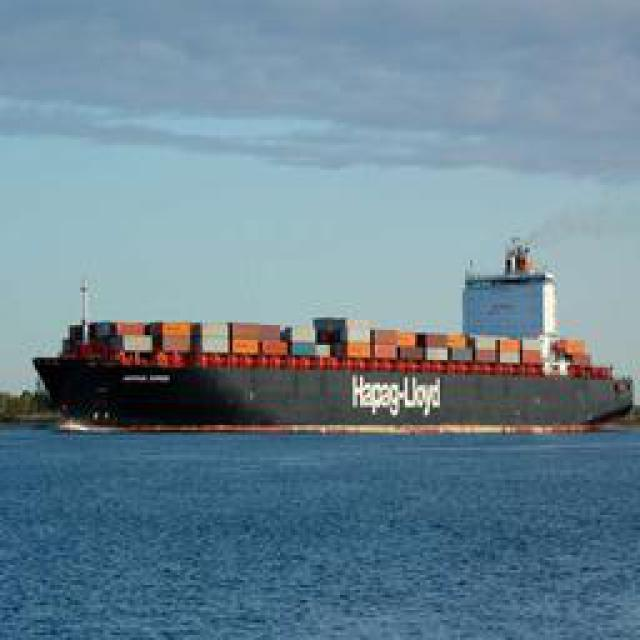Ship: (50, 245, 628, 435)
